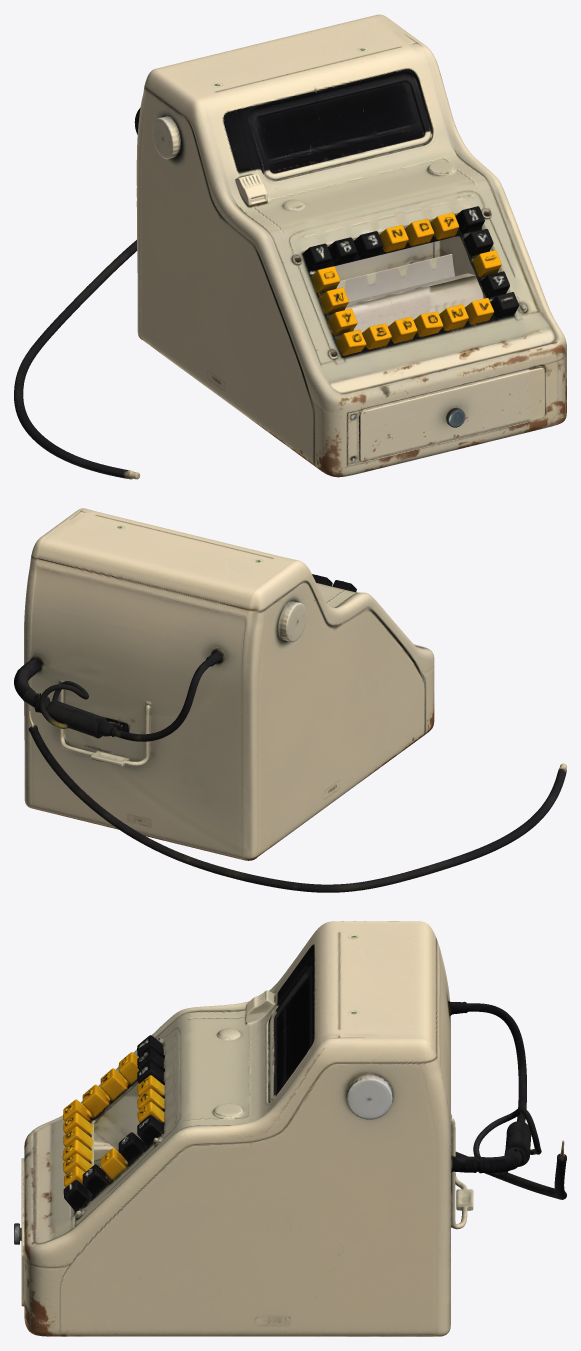
Rendered from VintageCashRegister.glb.
3 renders of one model, top to bottom at view 1: azimuth 30°, elevation 25°; view 2: azimuth 150°, elevation 25°; view 3: azimuth 270°, elevation 25°, orthographic. The views are drawn at different scales.
Bounding box in the file's own units: 1.88 × 1.14 × 1.9.
1 material, 1 textured.
